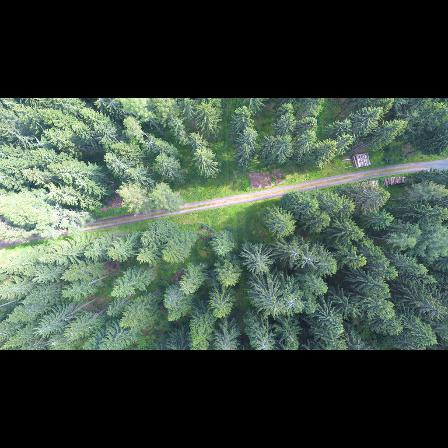Sick: (280, 291, 304, 313), (140, 131, 160, 151), (301, 252, 321, 267), (288, 245, 302, 261)
